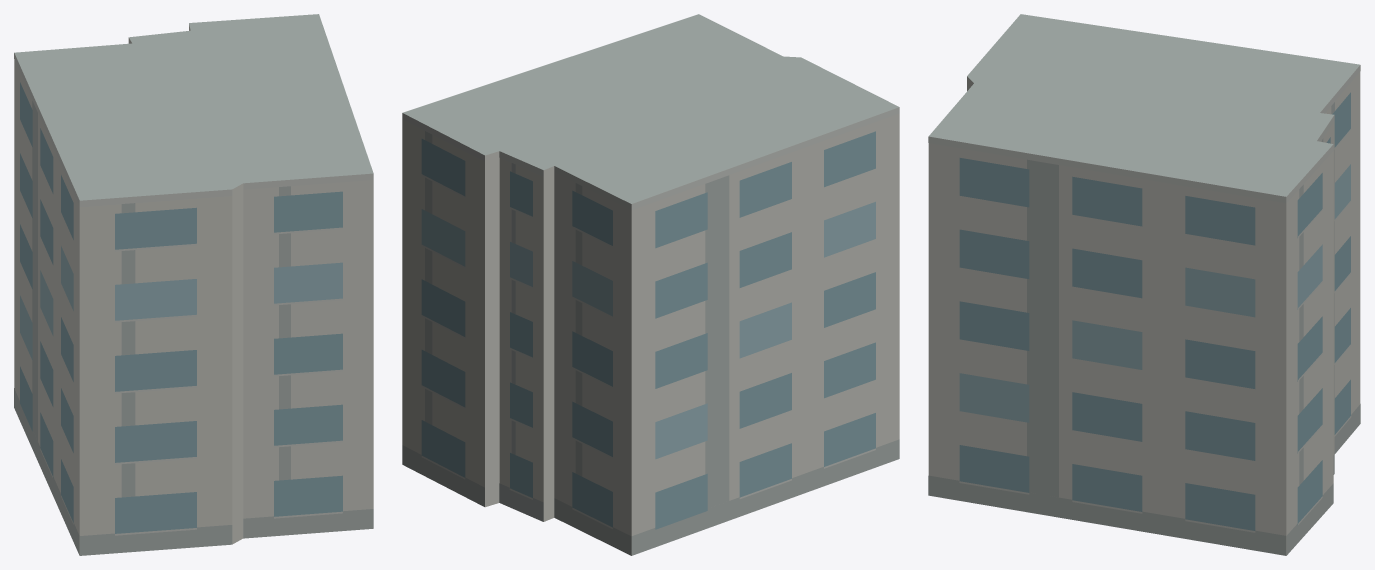
The model's file is survey-upis-32527773.glb.
3 renders of one model, left to right at view 1: azimuth 30°, elevation 25°; view 2: azimuth 150°, elevation 25°; view 3: azimuth 270°, elevation 25°, orthographic. The views are drawn at different scales.
Visible parts, largest first — view 1: survey-upis-32527773.tmp; view 2: survey-upis-32527773.tmp; view 3: survey-upis-32527773.tmp.
Part boxes in pixels (x1,y1,x2,y2): survey-upis-32527773.tmp: (14,14,373,555); survey-upis-32527773.tmp: (402,14,899,555); survey-upis-32527773.tmp: (928,14,1360,555).
Size of the model in its own units: 14.59 by 13.35 by 14.57.
